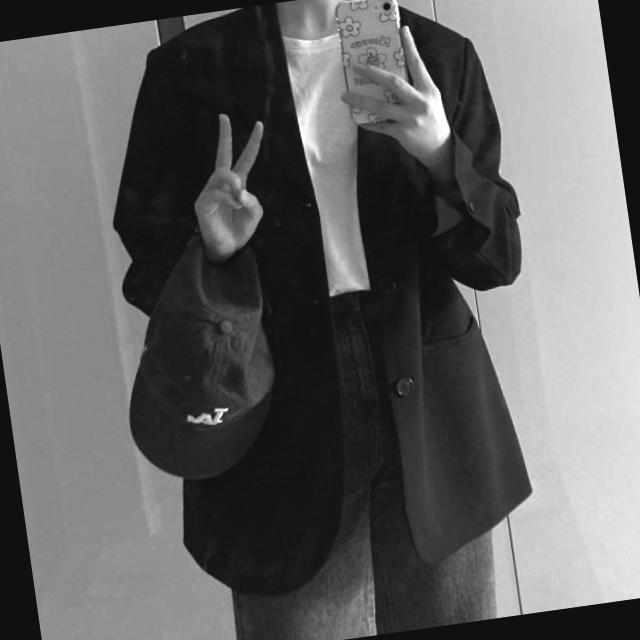blazer: (81, 0, 568, 611)
denimpants: (186, 272, 505, 640)
